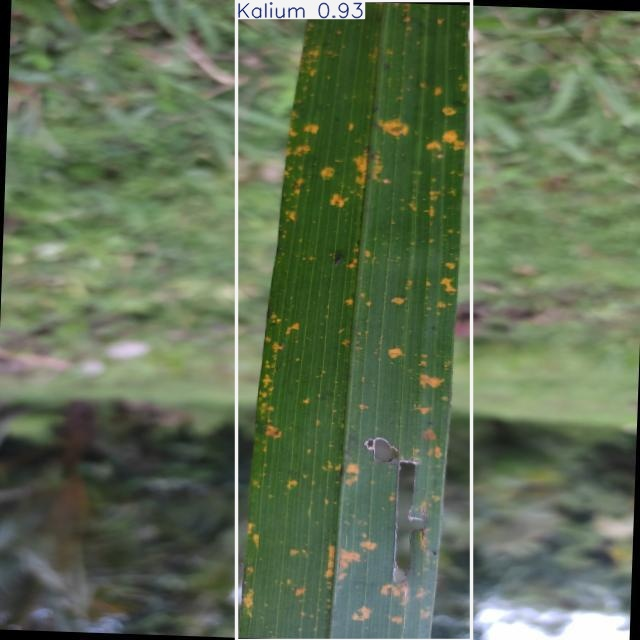Kalium: (237, 0, 472, 640)
